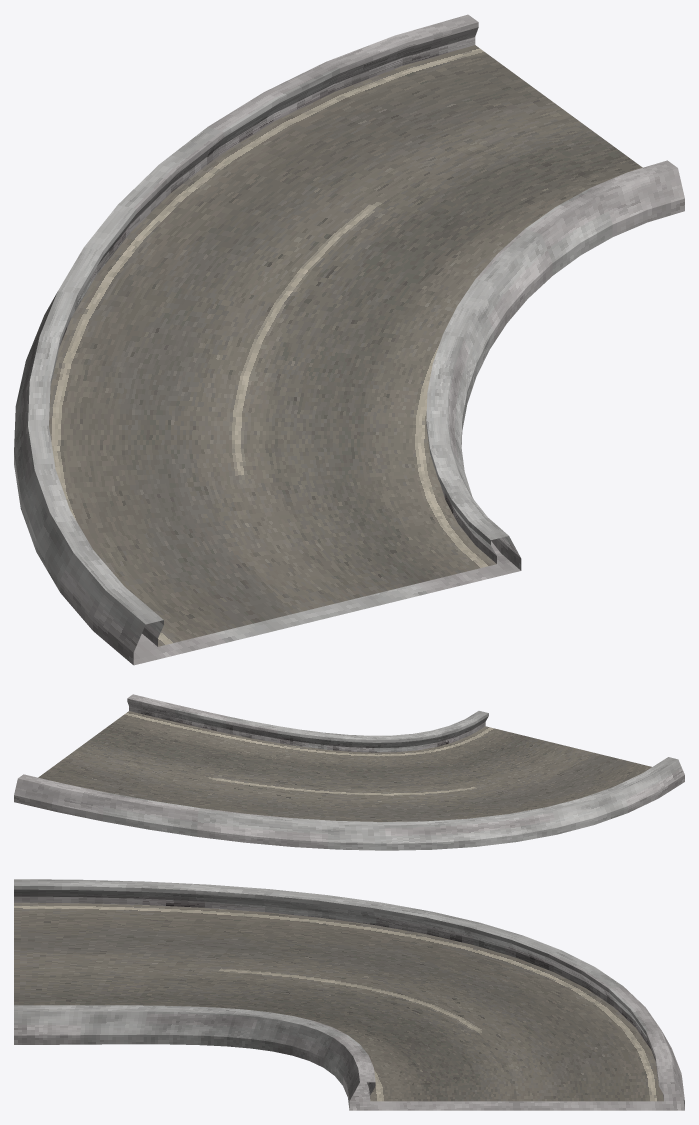
Rendered from turn-right2x2.glb.
3 renders of one model, top to bottom at view 1: azimuth 30°, elevation 25°; view 2: azimuth 150°, elevation 25°; view 3: azimuth 270°, elevation 25°, orthographic. The views are drawn at different scales.
Visible parts, largest first — view 1: road-Turn-Flat-Flat-Up1-Right-Size2; view 2: road-Turn-Flat-Flat-Up1-Right-Size2; view 3: road-Turn-Flat-Flat-Up1-Right-Size2.
Boxes of the visible parts, <box> form: road-Turn-Flat-Flat-Up1-Right-Size2: <box>14,14,684,665</box>; road-Turn-Flat-Flat-Up1-Right-Size2: <box>14,694,684,850</box>; road-Turn-Flat-Flat-Up1-Right-Size2: <box>14,879,684,1110</box>.
Bounding box in the file's own units: 2 × 0.3438 × 2.
2 materials, 2 textured.
